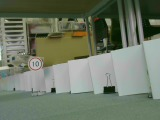speed_10: (27, 56, 43, 72)
